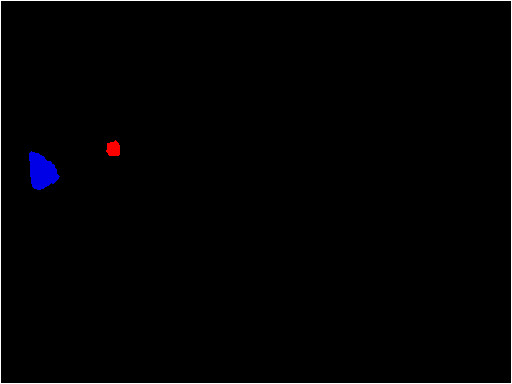chipped: (30, 160, 56, 182)
detached: (104, 142, 120, 155)
